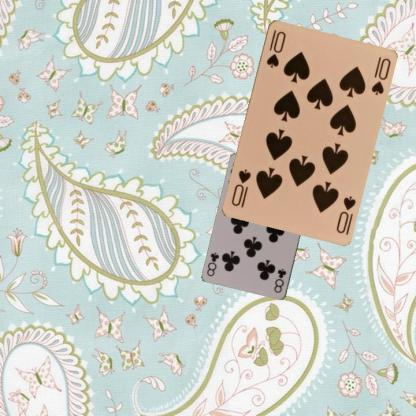10s: (333, 193, 357, 235), (264, 26, 287, 68)
8c: (272, 266, 288, 294)
